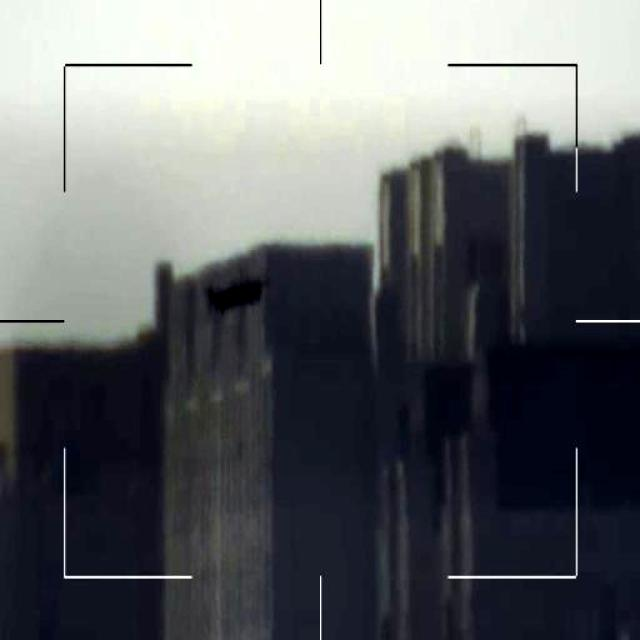bird: (212, 274, 270, 320)
